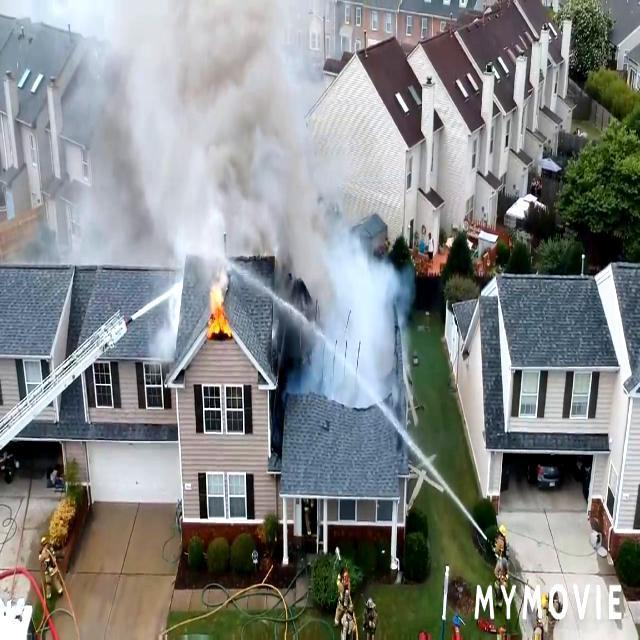Fire: (203, 278, 234, 344)
Smoke: (46, 21, 403, 350)
